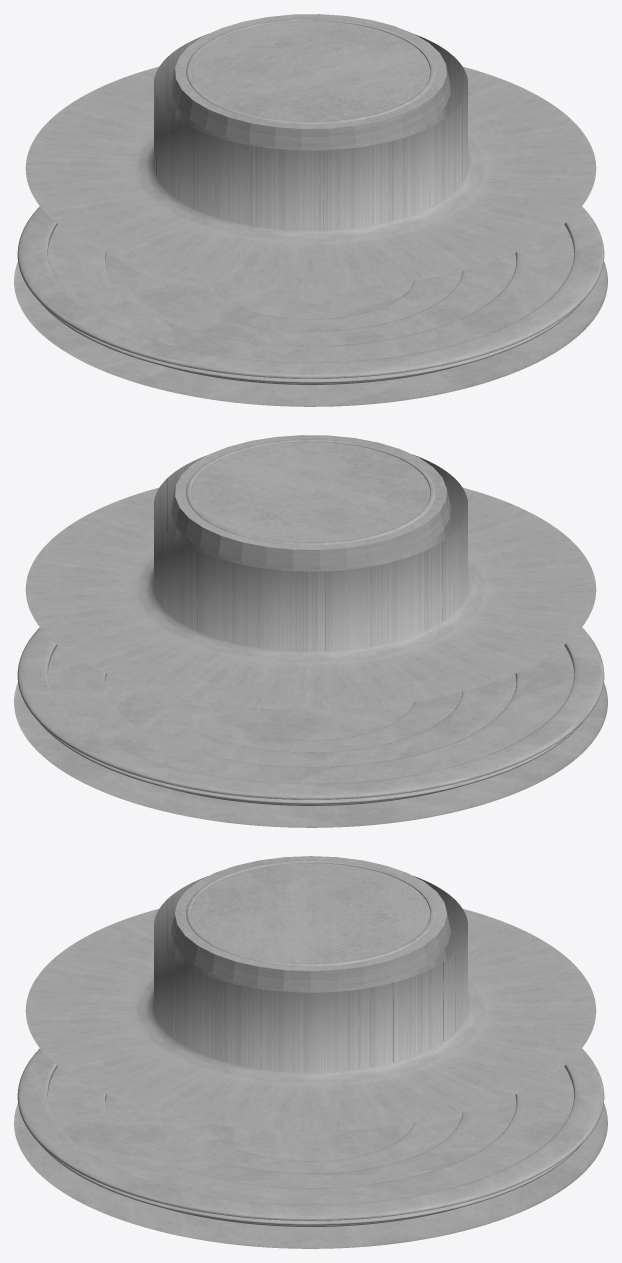
Rendered from fbscene2.glb.
3 views of the same model, one above another, from view 1: azimuth 30°, elevation 25°; view 2: azimuth 150°, elevation 25°; view 3: azimuth 270°, elevation 25° (orthographic).
Visible parts, largest first — view 1: Torus.011, Cylinder.016, Cylinder.015, Cylinder.005, Cylinder.006, Cylinder.004, Cylinder.003, Cylinder.013; view 2: Torus.011, Cylinder.016, Cylinder.015, Cylinder.005, Cylinder.006, Cylinder.004, Cylinder.003, Cylinder.013; view 3: Torus.011, Cylinder.016, Cylinder.015, Cylinder.005, Cylinder.006, Cylinder.004, Cylinder.003, Cylinder.013.
Part boxes in pixels (x1=…): Torus.011: x1=25, y1=33, x2=596, y2=289; Cylinder.016: x1=171, y1=14, x2=450, y2=148; Cylinder.015: x1=14, y1=261, x2=607, y2=406; Cylinder.005: x1=40, y1=224, x2=581, y2=383; Cylinder.006: x1=17, y1=206, x2=604, y2=378; Cylinder.004: x1=105, y1=253, x2=516, y2=384; Cylinder.003: x1=159, y1=271, x2=462, y2=331; Cylinder.013: x1=175, y1=18, x2=446, y2=150; Torus.011: x1=25, y1=454, x2=596, y2=710; Cylinder.016: x1=171, y1=435, x2=450, y2=569; Cylinder.015: x1=14, y1=682, x2=607, y2=827; Cylinder.005: x1=40, y1=645, x2=581, y2=804; Cylinder.006: x1=17, y1=627, x2=604, y2=799; Cylinder.004: x1=105, y1=674, x2=516, y2=805; Cylinder.003: x1=159, y1=692, x2=462, y2=752; Cylinder.013: x1=175, y1=439, x2=446, y2=571; Torus.011: x1=25, y1=876, x2=596, y2=1131; Cylinder.016: x1=171, y1=856, x2=450, y2=990; Cylinder.015: x1=14, y1=1103, x2=607, y2=1248; Cylinder.005: x1=40, y1=1066, x2=581, y2=1225; Cylinder.006: x1=17, y1=1048, x2=604, y2=1220; Cylinder.004: x1=105, y1=1095, x2=516, y2=1226; Cylinder.003: x1=159, y1=1113, x2=462, y2=1173; Cylinder.013: x1=175, y1=860, x2=446, y2=992.
Size of the model in its own units: 43.53 by 17.11 by 43.53.
3 materials, 1 textured.
